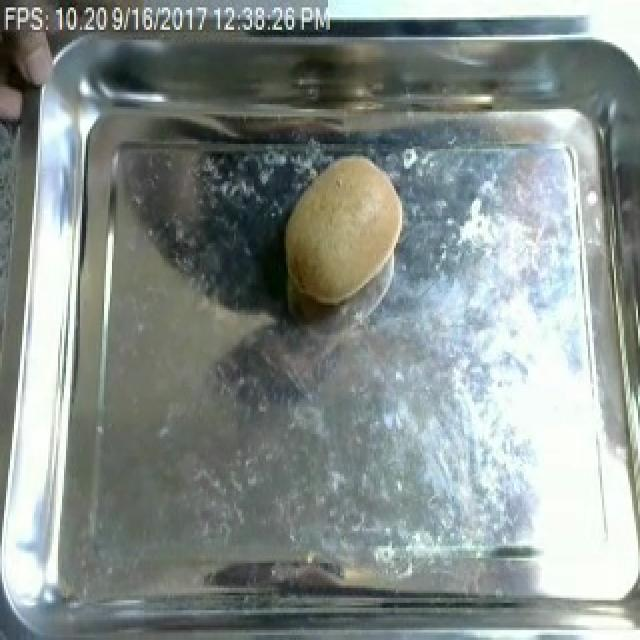Fruit: (274, 146, 410, 310)
